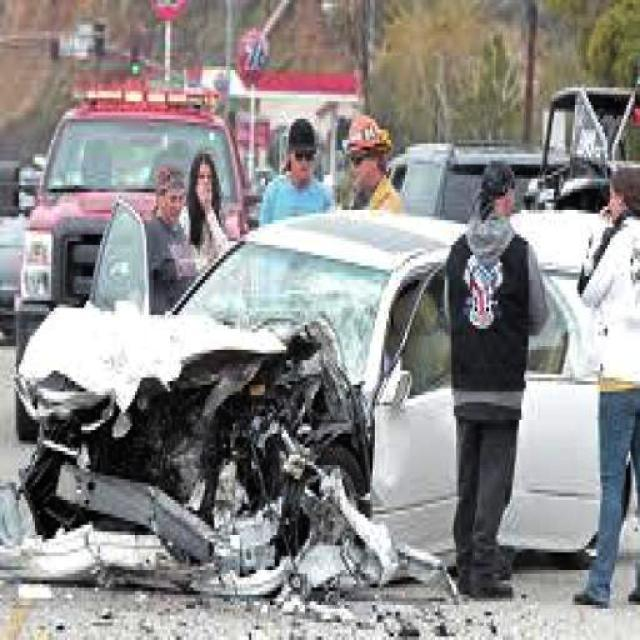car damage: (0, 302, 376, 600)
